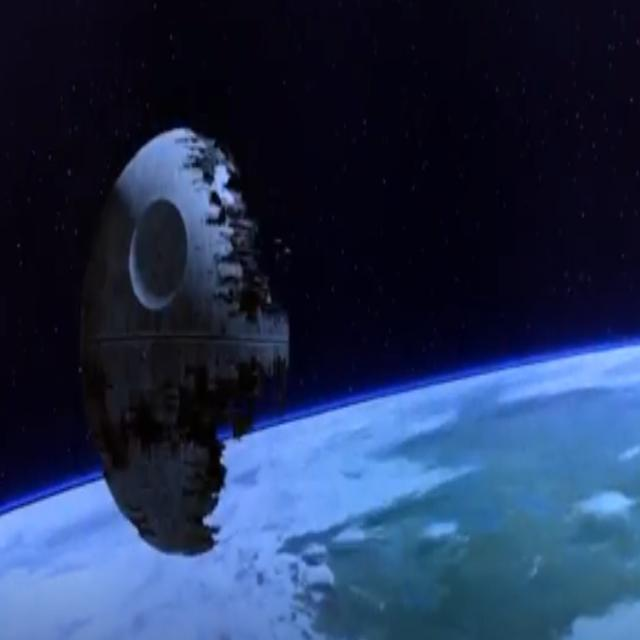deathStar: (80, 126, 290, 564)
